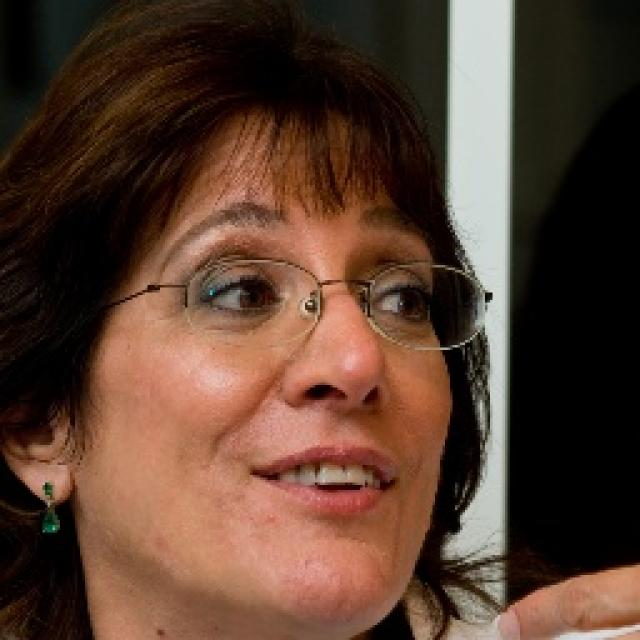earlobe: (31, 441, 77, 506)
eye: (199, 272, 279, 314), (368, 280, 430, 322)
nose: (290, 374, 417, 458)
